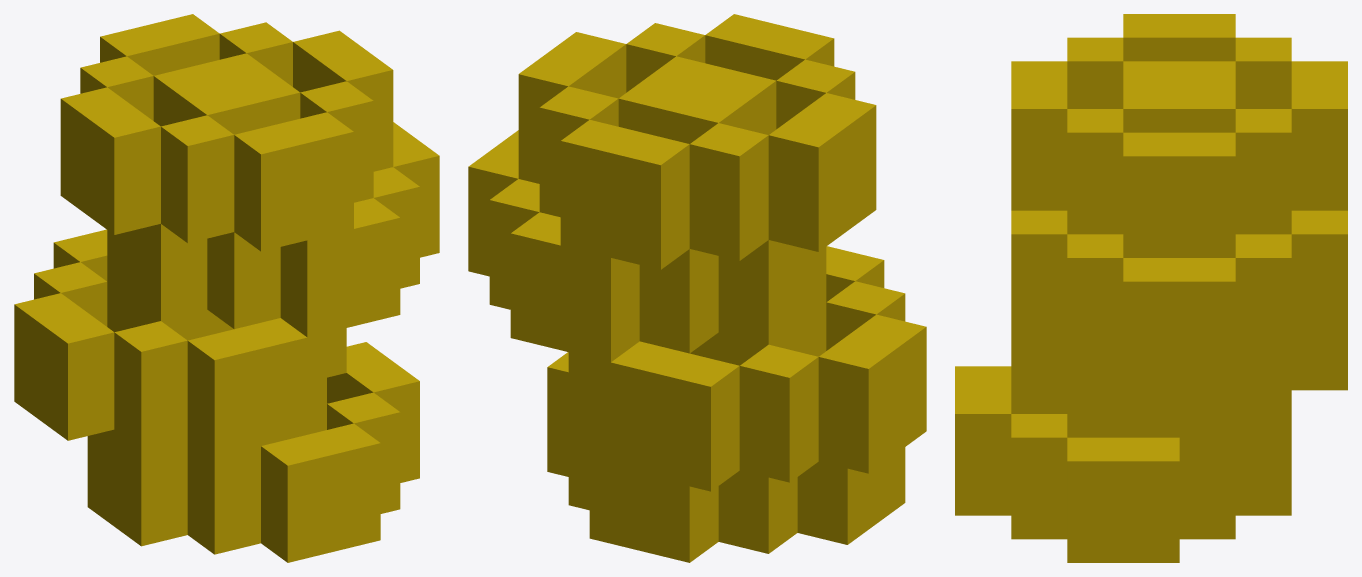
File: Coins_2_Gold.glb
3 views of the same model, side by side, from view 1: azimuth 30°, elevation 25°; view 2: azimuth 150°, elevation 25°; view 3: azimuth 270°, elevation 25° (orthographic). The views are drawn at different scales.
Parts seen in each view (by area): view 1: Coins_2_Gold; view 2: Coins_2_Gold; view 3: Coins_2_Gold.
Boxes of the visible parts, x1,y1,x2,y2 form: Coins_2_Gold: (14,14,439,562); Coins_2_Gold: (468,14,926,562); Coins_2_Gold: (955,14,1347,562).
Size of the model in its own units: 0.8 by 0.8 by 0.7.
Materials: 1 (1 with a texture image).
